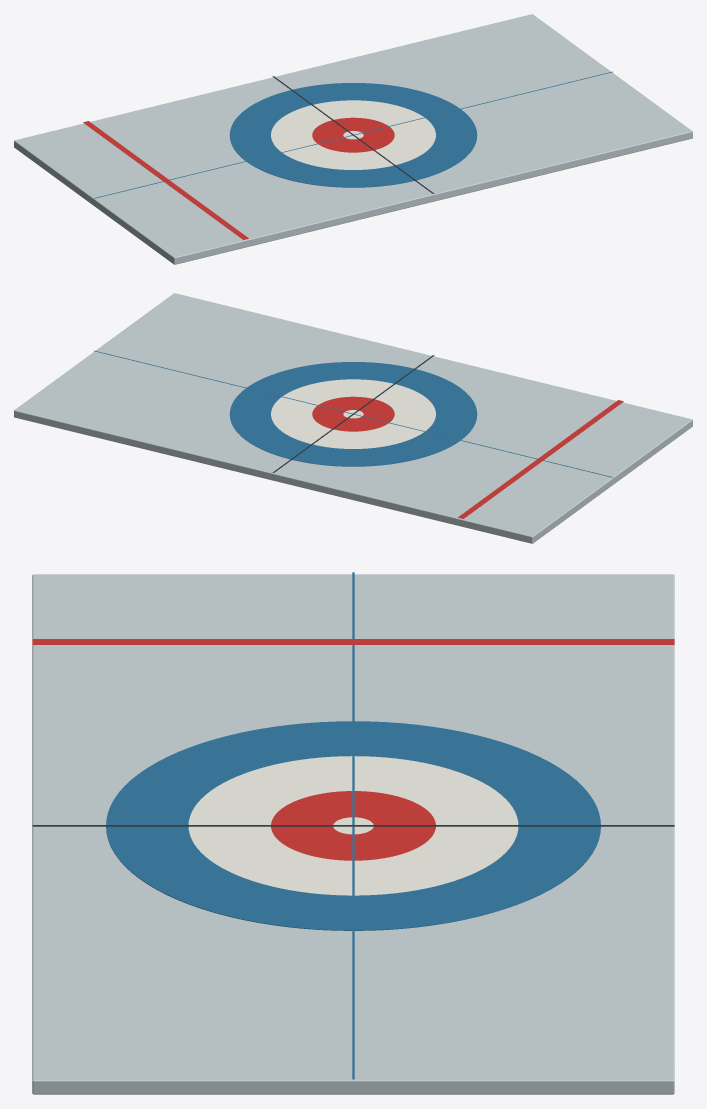
Rendered from house-end.glb.
The picture shows the model from 3 angles, top to bottom: view 1: azimuth 30°, elevation 25°; view 2: azimuth 150°, elevation 25°; view 3: azimuth 270°, elevation 25°; orthographic projection. The views are drawn at different scales.
Visible parts, largest first — view 1: ice-house-end-module; view 2: ice-house-end-module; view 3: ice-house-end-module.
Boxes of the visible parts, x1,y1,x2,y2 form: ice-house-end-module: (14, 14, 692, 264); ice-house-end-module: (14, 293, 692, 543); ice-house-end-module: (32, 572, 674, 1094).
Bounding box in the file's own units: 8.86 × 0.1381 × 4.75.
